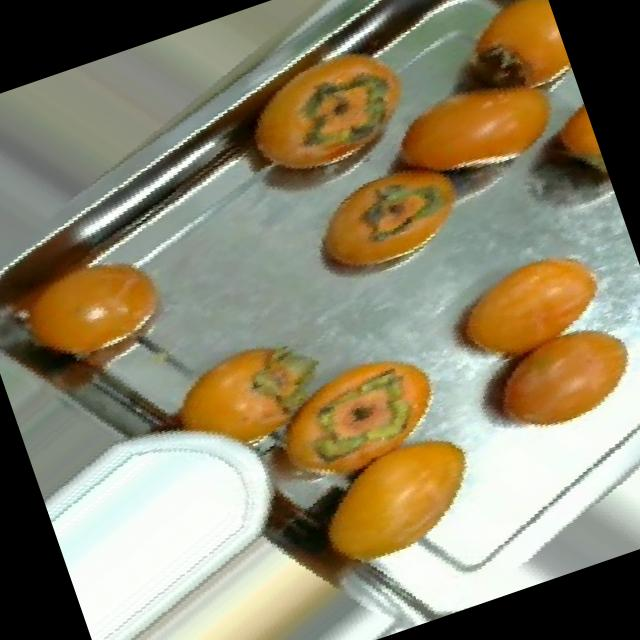Fruit: (196, 26, 449, 225), (0, 177, 203, 411), (277, 406, 514, 597), (240, 318, 470, 501), (131, 304, 350, 491), (411, 214, 638, 394), (276, 123, 498, 306), (431, 285, 640, 475)
